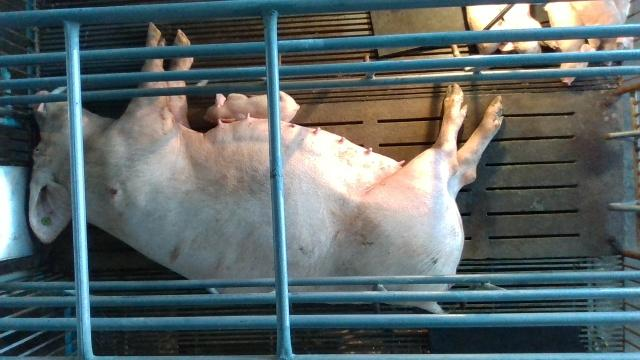piglet: (543, 1, 591, 87), (574, 1, 633, 64), (204, 93, 299, 121), (504, 3, 557, 53), (467, 5, 513, 54)
sow-sleep-lactate: (28, 24, 502, 313)
